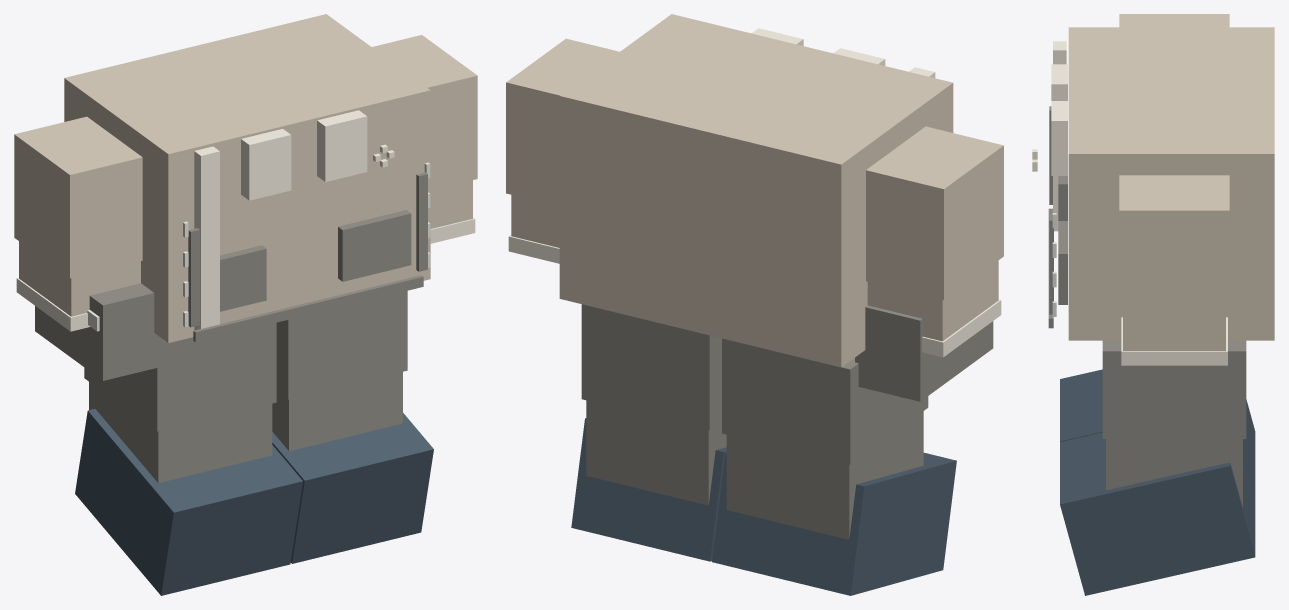
File: student-sand.glb
The picture shows the model from 3 angles, left to right: view 1: azimuth 30°, elevation 25°; view 2: azimuth 150°, elevation 25°; view 3: azimuth 270°, elevation 25°; orthographic projection. The views are drawn at different scales.
Parts seen in each view (by area): view 1: jacket, shoe-Right, upper-sleeve-Right, shoe-Left, trouser-Right, trouser-Left, lower-trouser-Right, upper-sleeve-Left, satchel, lower-trouser-Left, pocket-1, satchel-strap (+10 smaller); view 2: jacket, upper-sleeve-Right, shoe-Right, trouser-Right, trouser-Left, lower-trouser-Right, lower-trouser-Left, upper-sleeve-Left, shoe-Left, satchel, lower-sleeve-Right, lower-sleeve-Left (+2 smaller); view 3: jacket, shoe-Left, upper-sleeve-Left, trouser-Left, lower-trouser-Left, lower-sleeve-Left, shoe-Right, cuff-Left, upper-sleeve-Right, lapel-1, pocket-1, lapel--1 (+3 smaller).
Boxes of the visible parts, x1,y1,x2,y2 form: jacket: (64, 14, 430, 342); shoe-Right: (75, 409, 302, 595); upper-sleeve-Right: (14, 116, 142, 278); shoe-Left: (272, 413, 433, 563); trouser-Right: (84, 322, 276, 431); trouser-Left: (276, 290, 407, 399); lower-trouser-Right: (89, 382, 272, 482); upper-sleeve-Left: (372, 35, 477, 190); satchel: (35, 283, 163, 380); lower-trouser-Left: (272, 372, 402, 451); pocket-1: (338, 210, 411, 281); satchel-strap: (194, 146, 219, 330); jacket: (559, 14, 953, 367); upper-sleeve-Right: (866, 126, 1003, 300); shoe-Right: (712, 452, 956, 595); trouser-Right: (722, 338, 928, 464); trouser-Left: (581, 304, 721, 430); lower-trouser-Right: (726, 411, 923, 539); lower-trouser-Left: (586, 400, 726, 505); upper-sleeve-Left: (506, 38, 619, 206); shoe-Left: (571, 418, 726, 561); satchel: (855, 305, 993, 401); lower-sleeve-Right: (867, 260, 998, 341); lower-sleeve-Left: (511, 195, 559, 247); jacket: (1068, 27, 1274, 340); shoe-Left: (1060, 432, 1255, 595); upper-sleeve-Left: (1119, 175, 1229, 312); trouser-Left: (1102, 340, 1246, 438); lower-trouser-Left: (1106, 439, 1242, 507); lower-sleeve-Left: (1123, 312, 1225, 350); shoe-Right: (1060, 369, 1255, 493); cuff-Left: (1121, 317, 1227, 365); upper-sleeve-Right: (1119, 14, 1229, 27); lapel-1: (1051, 101, 1067, 175); pocket-1: (1058, 221, 1067, 304); lapel--1: (1051, 64, 1067, 100).
Bounding box in the file's own units: 1.07 × 1.13 × 0.559.
